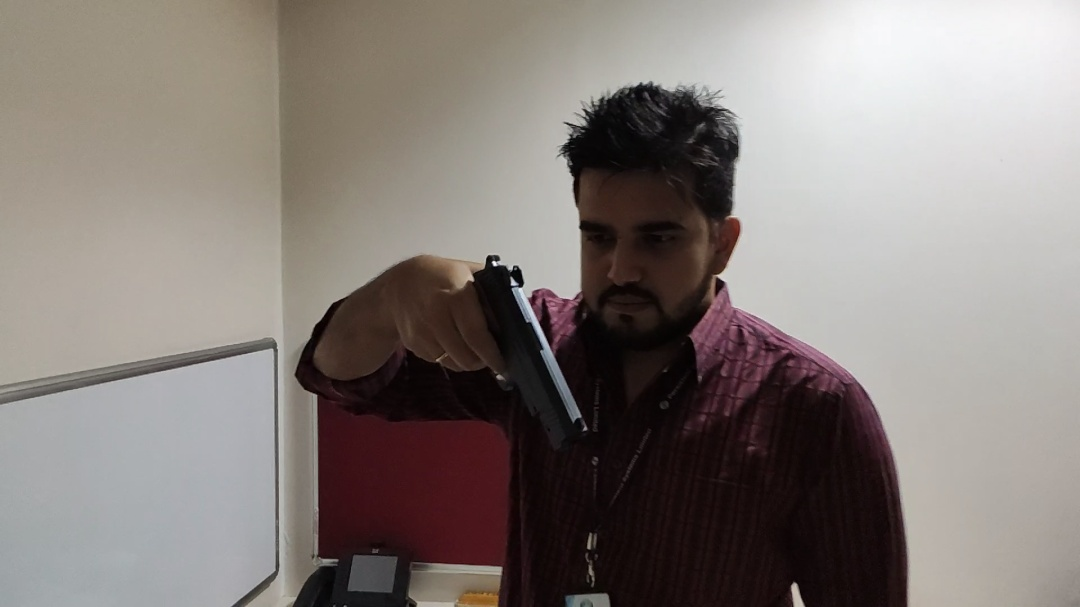gun: (436, 250, 590, 464)
